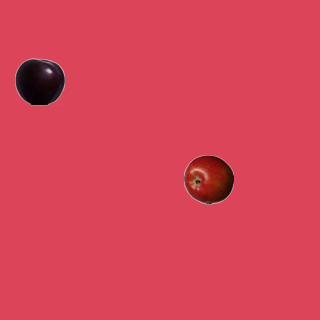Apple Braeburn: (183, 154, 233, 204)
Cherry Wax Black: (14, 56, 64, 106)
